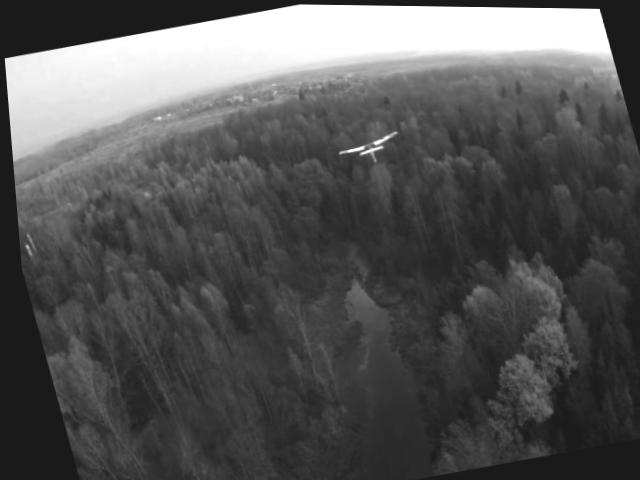hedef: (330, 122, 406, 173)
